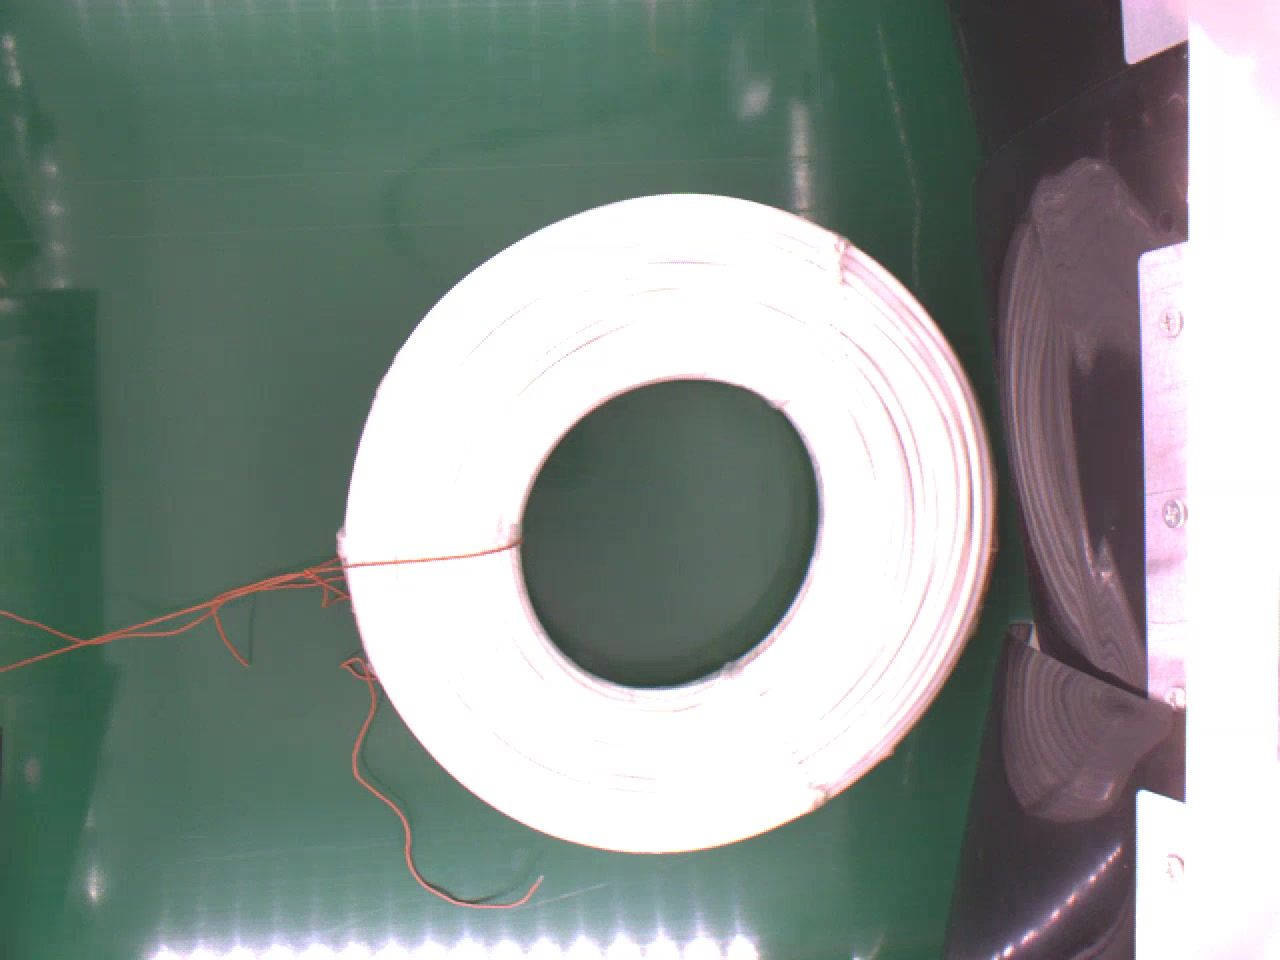white: (334, 186, 1012, 857)
